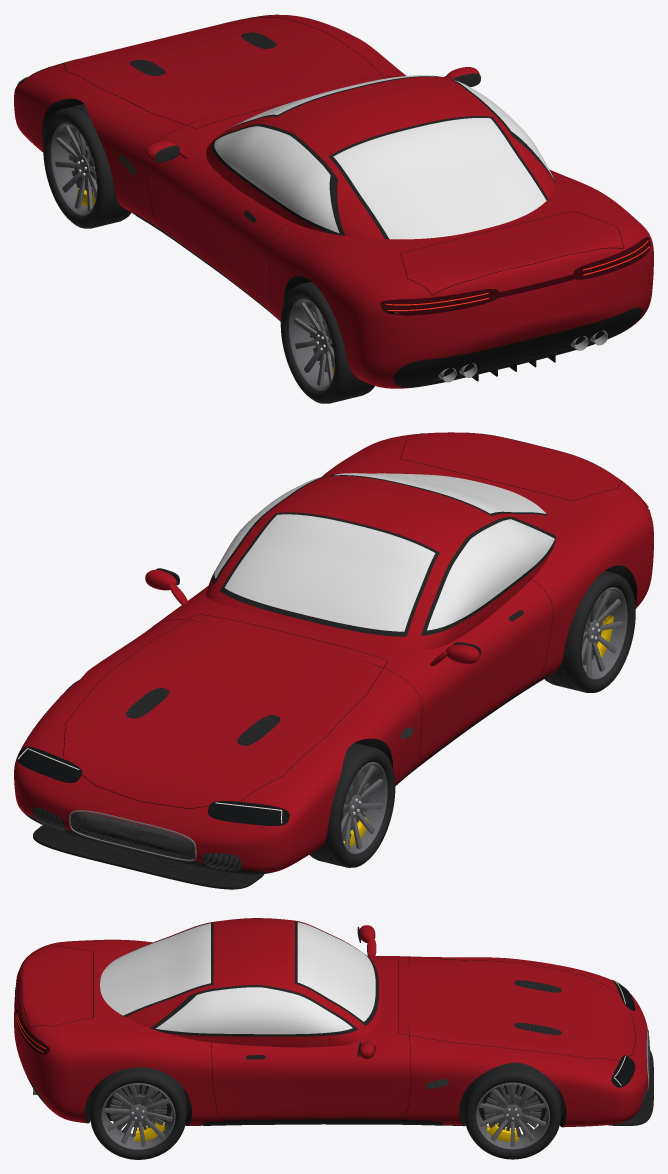
File: SportsCar.fbx
3 renders of one model, top to bottom at view 1: azimuth 30°, elevation 25°; view 2: azimuth 150°, elevation 25°; view 3: azimuth 270°, elevation 25°, orthographic. The views are drawn at different scales.
Parts seen in each view (by area): view 1: Body, CabinGlass, CabinFrame, Wheel_FL, Wheel_RL, Details, Trim; view 2: Body, CabinGlass, CabinFrame, Details, Wheel_RL, Wheel_FL, Trim; view 3: Body, CabinGlass, CabinFrame, Wheel_FR, Wheel_RR, Details, Trim.
Part boxes in pixels (left/top/right/bottom): Body: left=14, top=15, right=653, bottom=388; CabinGlass: left=214, top=75, right=554, bottom=239; CabinFrame: left=206, top=75, right=555, bottom=238; Wheel_FL: left=43, top=104, right=131, bottom=228; Wheel_RL: left=280, top=281, right=374, bottom=403; Details: left=17, top=14, right=650, bottom=321; Trim: left=145, top=67, right=607, bottom=382; Body: left=14, top=432, right=653, bottom=874; CabinGlass: left=214, top=473, right=554, bottom=631; CabinFrame: left=206, top=473, right=555, bottom=649; Details: left=17, top=432, right=650, bottom=870; Wheel_RL: left=544, top=571, right=635, bottom=692; Wheel_FL: left=309, top=743, right=395, bottom=867; Trim: left=33, top=568, right=480, bottom=889; Body: left=14, top=939, right=647, bottom=1127; CabinGlass: left=100, top=918, right=375, bottom=1034; CabinFrame: left=123, top=918, right=383, bottom=1047; Wheel_FR: left=464, top=1062, right=560, bottom=1159; Wheel_RR: left=90, top=1067, right=186, bottom=1159; Details: left=14, top=946, right=649, bottom=1125; Trim: left=33, top=925, right=653, bottom=1125.
Bounding box in the file's own units: 768 × 459 × 1636.
Materials: 10 (9 with a texture image).
